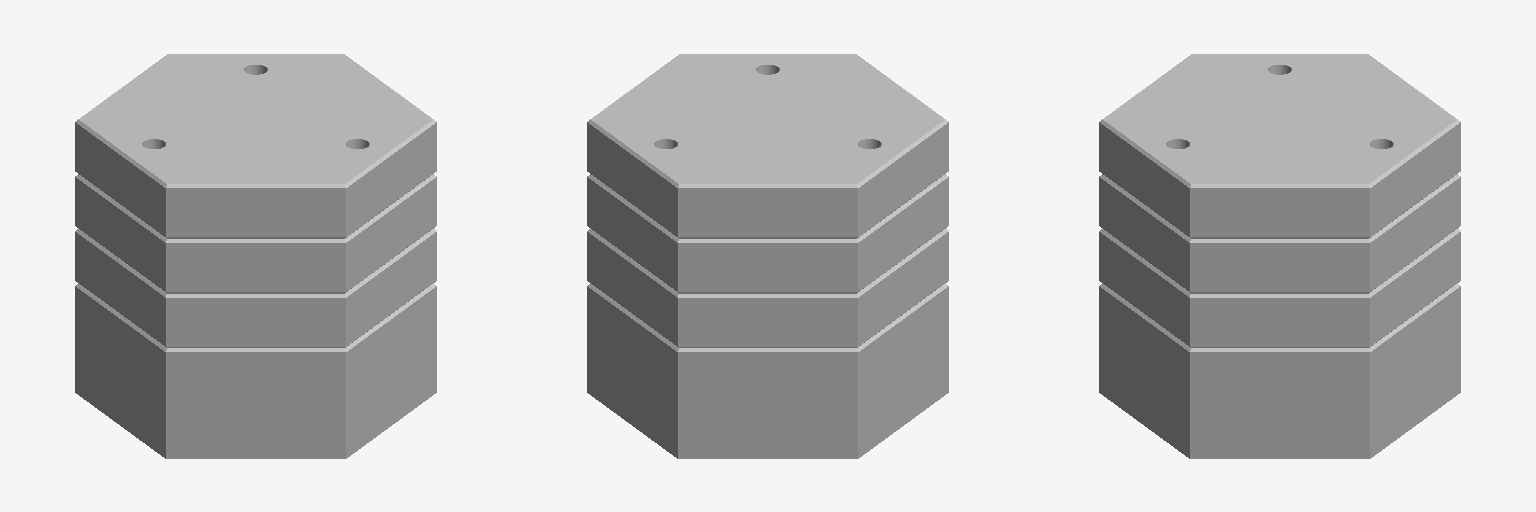
The model's file is lvl4B.obj.
3 renders of one model, left to right at view 1: azimuth 30°, elevation 25°; view 2: azimuth 150°, elevation 25°; view 3: azimuth 270°, elevation 25°, orthographic.
Visible parts, largest first — view 1: Lvl4B-3_(Mono-NoMags); view 2: Lvl4B-3_(Mono-NoMags); view 3: Lvl4B-3_(Mono-NoMags).
Part boxes in pixels (bbox=[...]): Lvl4B-3_(Mono-NoMags): bbox=[75, 54, 436, 458]; Lvl4B-3_(Mono-NoMags): bbox=[587, 54, 948, 458]; Lvl4B-3_(Mono-NoMags): bbox=[1099, 54, 1460, 458].
Bounding box in the file's own units: 3.13 × 3.02 × 3.62.